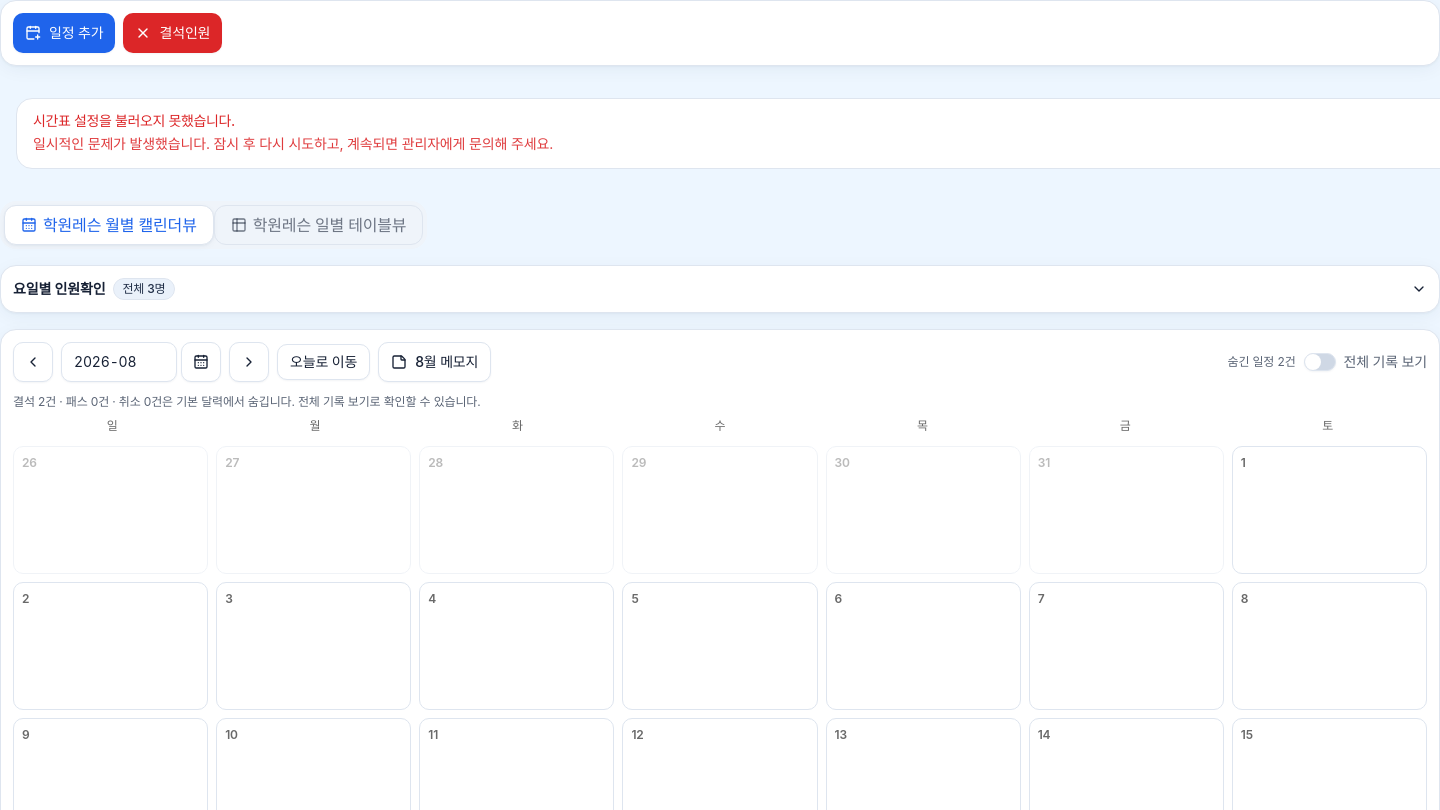
Scenario: 학원 레슨표 서버 연결 › 보강 확정은 사유서 내용을 서버에 보내고 서버가 만든 보강 일정을 달력에 보여 준다
The width and height of the screenshot is (1440, 810).
Click the button "결석인원".
click(173, 33)  # box [124,13,222,53]
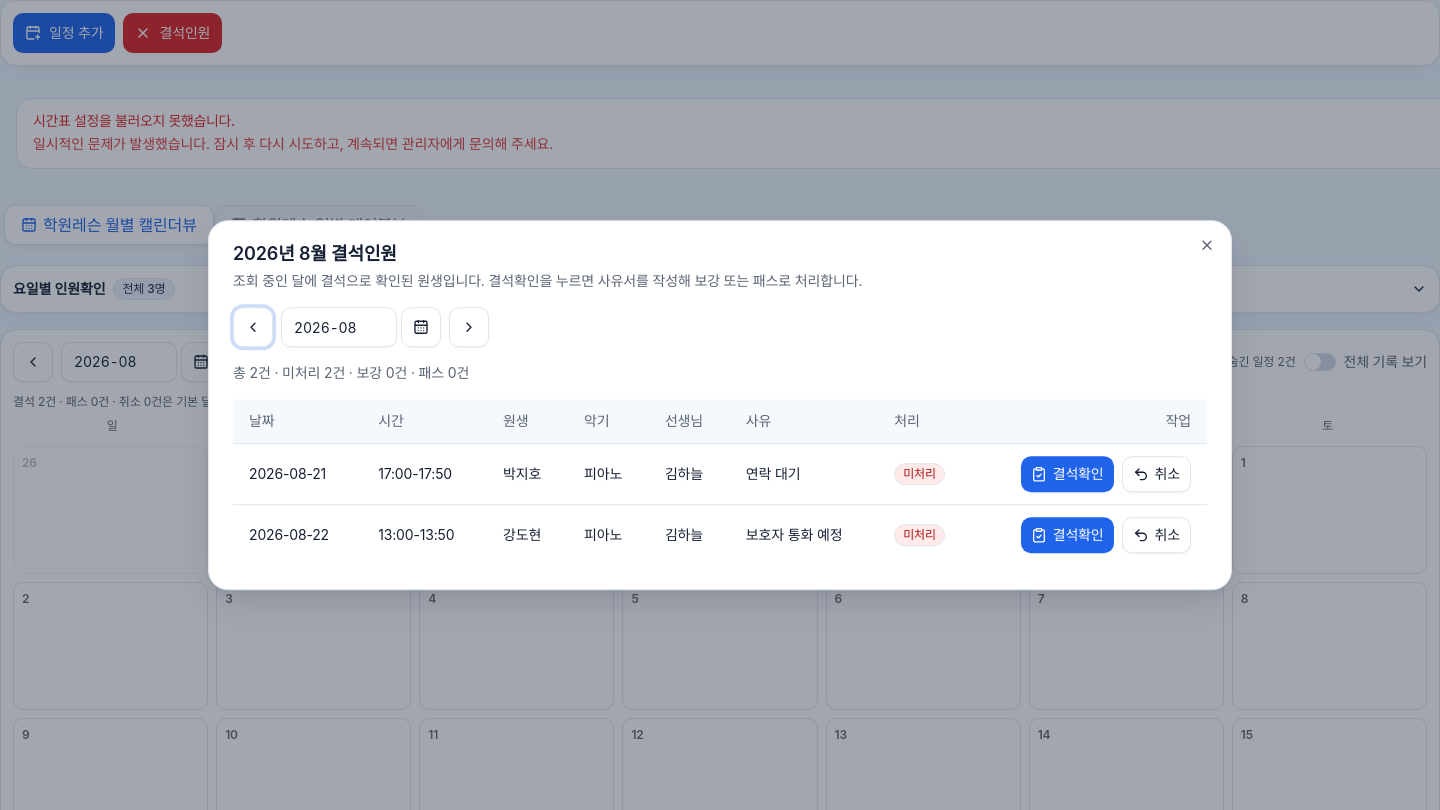
Click the button with aria-label "박지호 결석확인".
click(1067, 474)  # box [1021,456,1114,492]
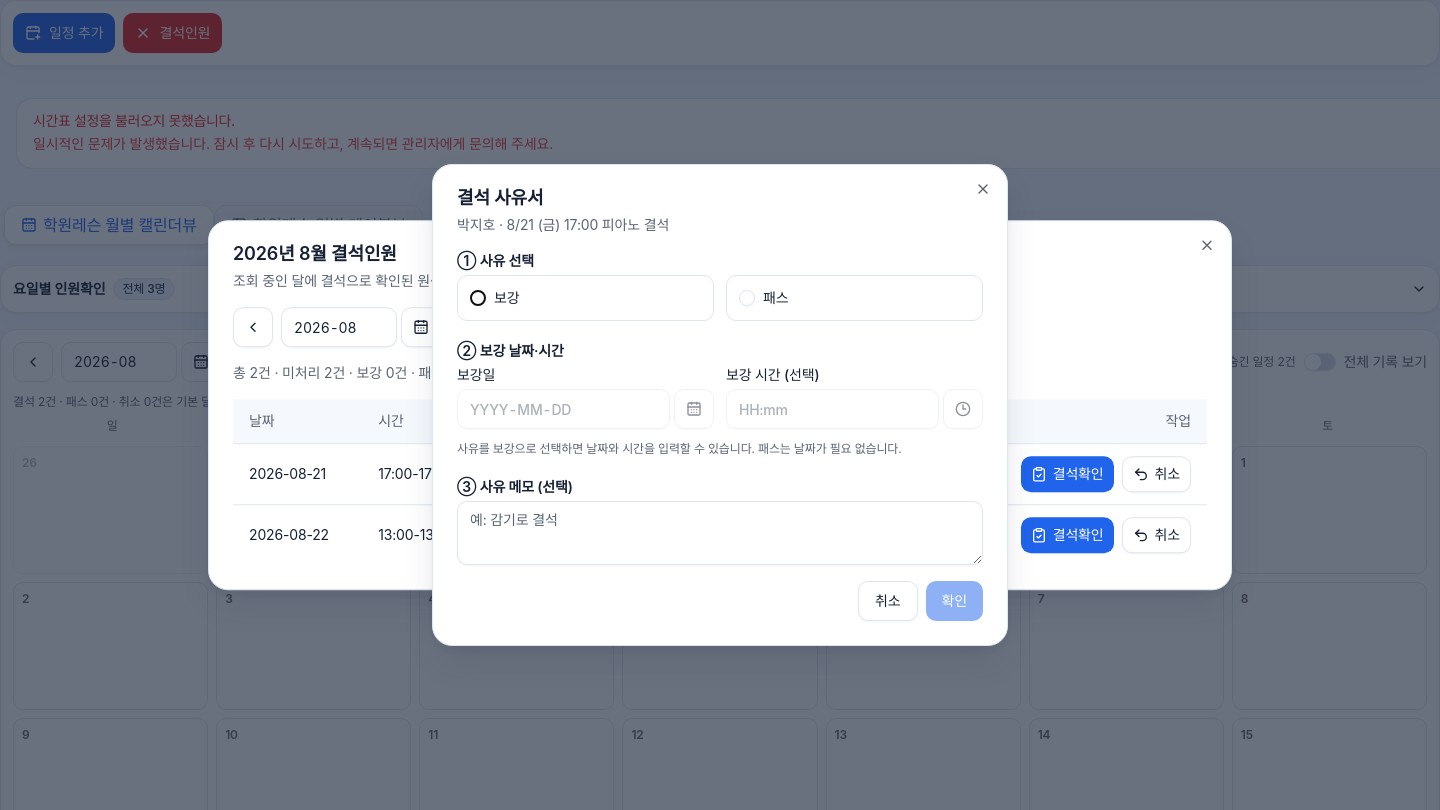
Type "감기" into the text box named "사유 메모".
click(720, 533); type("감기")  # box [457,501,983,565]
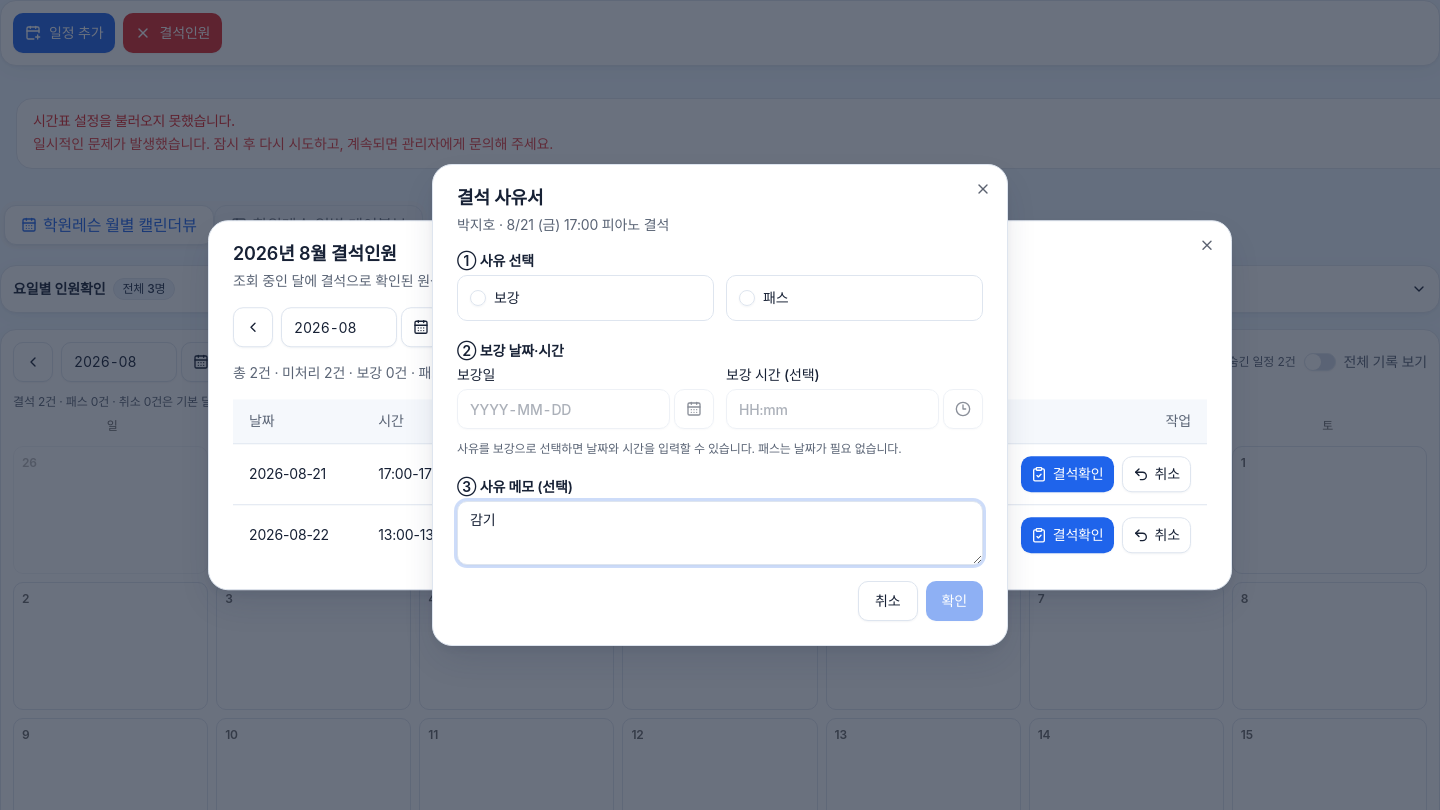
Click the 1st radio button named "보강".
click(478, 298)  # box [470,290,486,306]
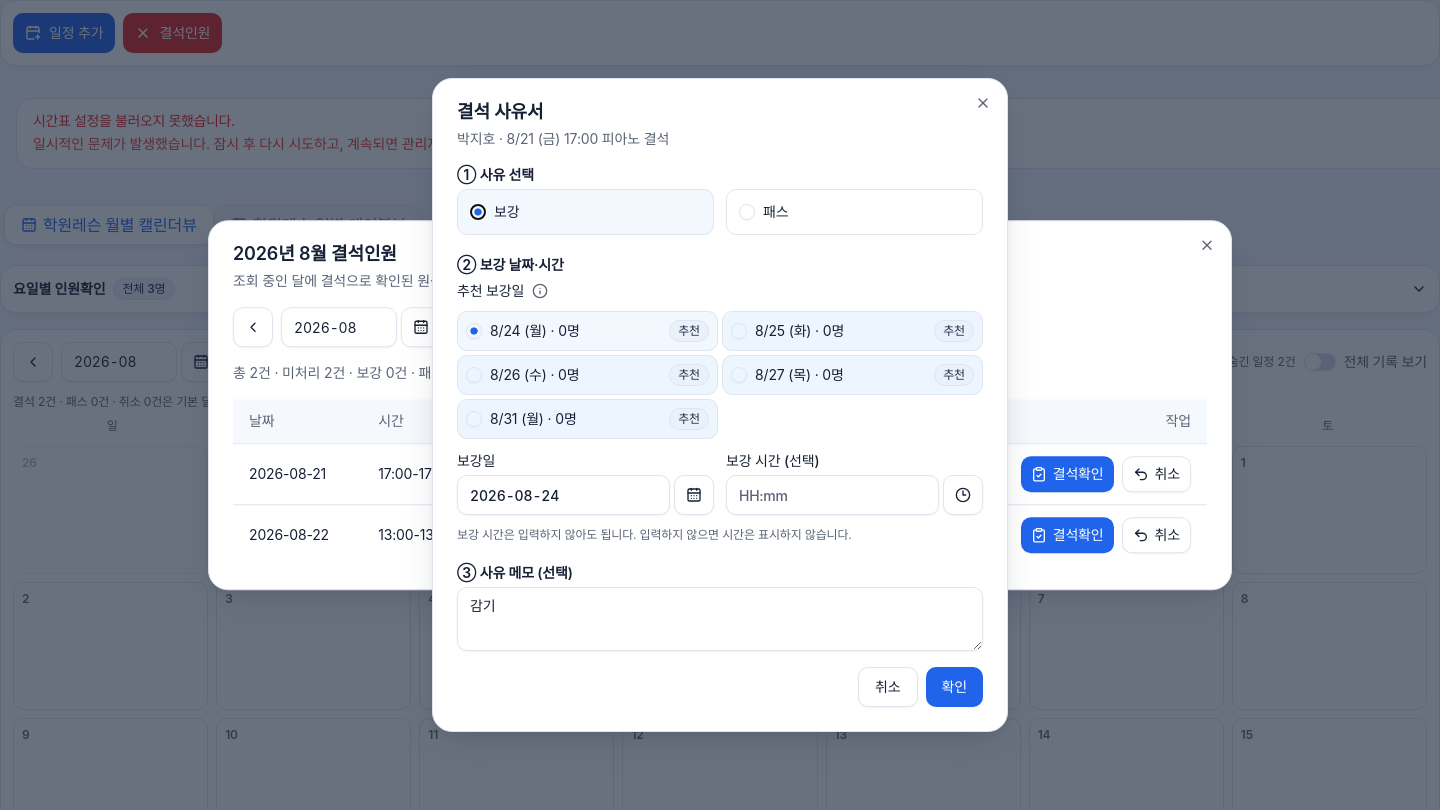
Click the button "확인".
click(954, 687)  # box [926,667,983,707]
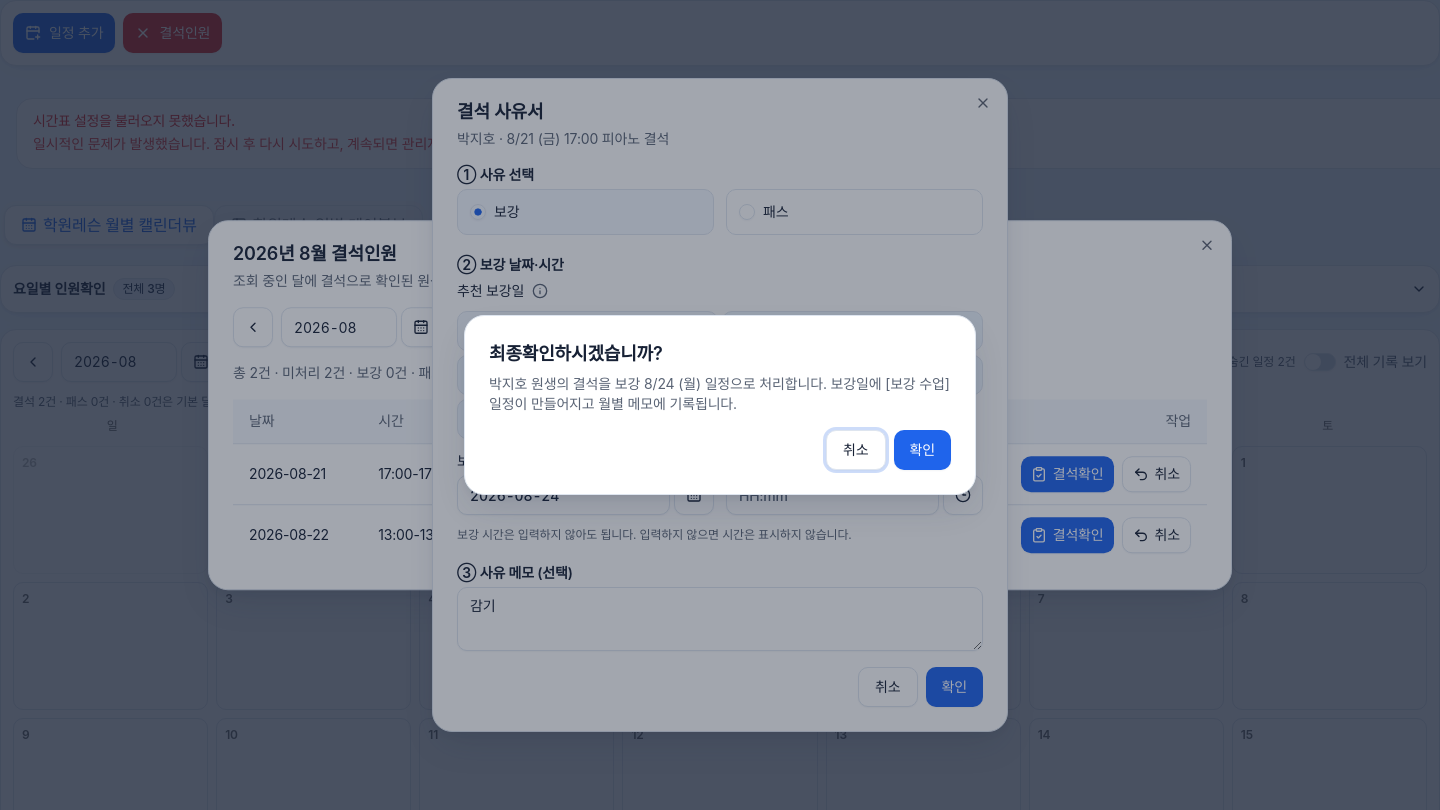
Click the button "확인".
click(922, 450)  # box [894,430,951,470]
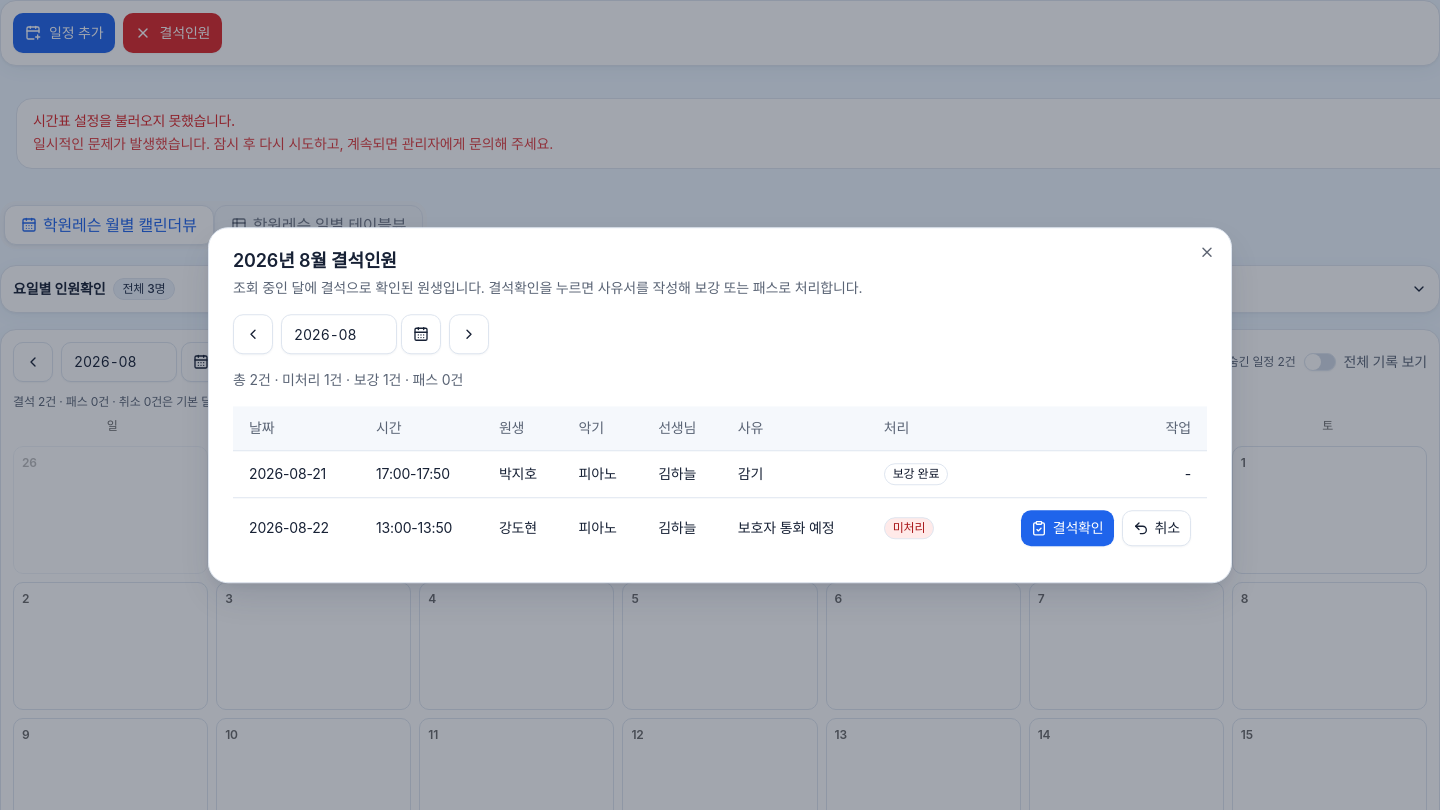
Now the heading "결석 사유서" is gone
